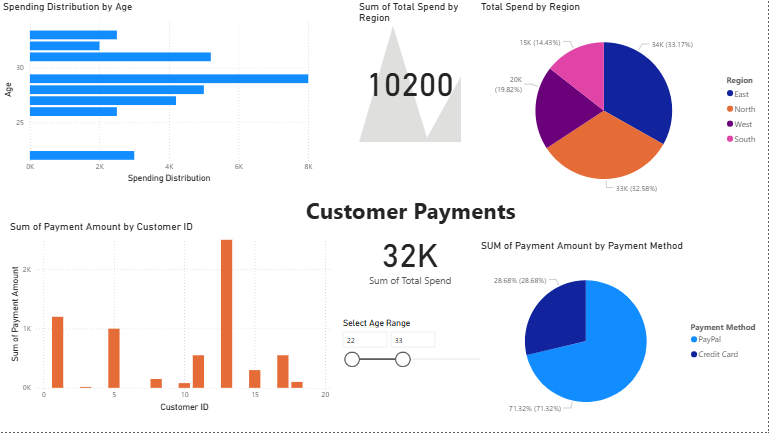

The page's visual inventory and layout, read from the dashboard file:
{"tool":"powerbi","page":{"name":"עמוד 1","canvas":[1280,720],"ordinal":0},"visuals":[{"type":"clusteredColumnChart","fields":{"Y":["Sum(Payments.Payment Amount)"],"Category":["Payments.Customer ID"]},"box":[11.2,366.2,546.2,323.8],"z":1000},{"type":"pieChart","fields":{"Category":["Customer Spend by Region.Region"],"Y":["Sum(Customer Spend by Region.SUM of Total Spend)"]},"box":[796.7,0,483.3,350],"z":2000},{"type":"pieChart","fields":{"Category":["Payment Analysis by Method.Payment Method"],"Y":["Sum(Payment Analysis by Method.SUM of Payment Amount)"]},"box":[796.7,398.3,483.3,321.7],"z":3000},{"type":"card","fields":{"Values":["Sum(Customers.Total Spend)"]},"box":[588.6,335.7,190,188.6],"z":5000},{"type":"kpi","fields":{"Indicator":["Sum(Customers.Total Spend)"],"TrendLine":["Customer Spend by Region.Region"]},"box":[593.8,0,180,242.5],"z":6001},{"type":"textbox","box":[505,320,505,78.3],"z":6003},{"type":"barChart","fields":{"Category":["Customers.Age"],"Y":["Sum(Customers.Total Spend)"]},"box":[0,0,525.7,310],"z":6004},{"type":"slicer","fields":{"Values":["Customers.Age"]},"box":[558.3,525,265,195],"z":6005}]}

Visuals, with their boxes in screenshot pixels (x1, y1, x2, y2), scaled from the page's 1280x720 canvas onto the 769x433 screenshot:
clusteredColumnChart - Sum(Payments.Payment Amount) x Payments.Customer ID: <box>7,220,335,415</box>
pieChart - Customer Spend by Region.Region x Sum(Customer Spend by Region.SUM of Total Spend): <box>479,0,768,210</box>
pieChart - Payment Analysis by Method.Payment Method x Sum(Payment Analysis by Method.SUM of Payment Amount): <box>479,240,768,432</box>
card - Sum(Customers.Total Spend): <box>354,202,468,315</box>
kpi - Sum(Customers.Total Spend) x Customer Spend by Region.Region: <box>357,0,465,146</box>
textbox: <box>303,192,607,240</box>
barChart - Customers.Age x Sum(Customers.Total Spend): <box>0,0,316,186</box>
slicer - Customers.Age: <box>335,316,495,432</box>
